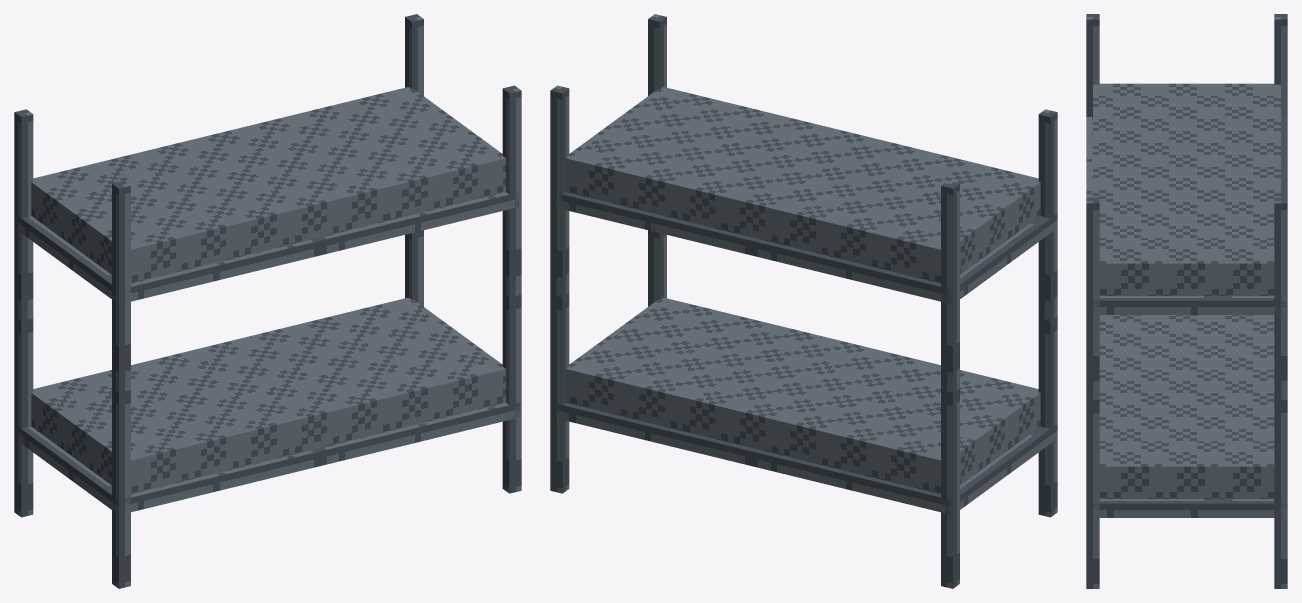
File: bunk.glb
3 views of the same model, side by side, from view 1: azimuth 30°, elevation 25°; view 2: azimuth 150°, elevation 25°; view 3: azimuth 270°, elevation 25° (orthographic). The views are drawn at different scales.
Visible parts, largest first — view 1: bunk mesh; view 2: bunk mesh; view 3: bunk mesh.
Part boxes in pixels (<box>): bunk mesh: <box>14,14,521,588</box>; bunk mesh: <box>550,14,1057,588</box>; bunk mesh: <box>1086,14,1287,588</box>.
Size of the model in its own units: 2 by 1.9 by 0.9.
2 materials, 2 textured.
